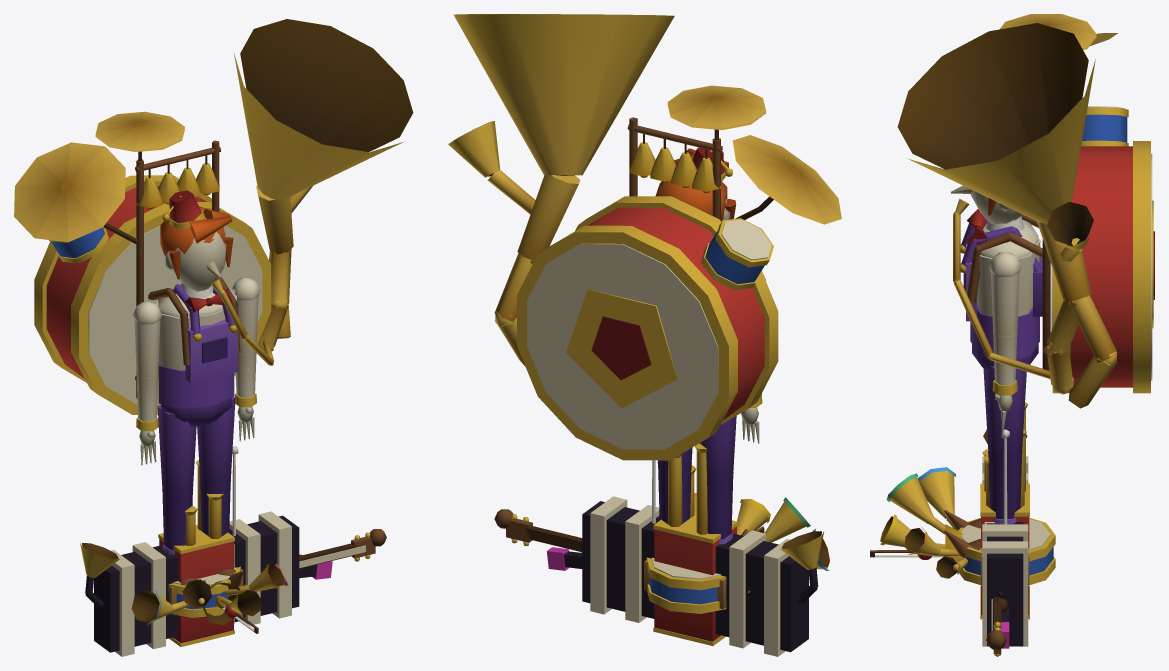
Rendered from bandsman.glb.
3 views of the same model, side by side, from view 1: azimuth 30°, elevation 25°; view 2: azimuth 150°, elevation 25°; view 3: azimuth 270°, elevation 25° (orthographic). The views are drawn at different scales.
Parts seen in each view (by area): view 1: tuba, pack_drum, acc_bellows, cym_crash, torso, pack, head, thigh_R, cym_top, acc_R, acc_L, thigh_L (+18 smaller); view 2: pack_drum, tuba, acc_bellows, cym_crash, pack_tom, acc_R, acc_L, cym_top, snare, pack_bells, pack, head (+9 smaller); view 3: tuba, pack_drum, torso, acc_bellows, snare, thigh_L, pack, upper_L, tuba_pipe, shin_L, pack_tom, horn_0 (+11 smaller).
Boxes of the visible parts, x1,y1,x2,y2 form: tuba: [234, 19, 413, 351]; pack_drum: [34, 175, 271, 414]; acc_bellows: [94, 511, 299, 656]; cym_crash: [14, 142, 125, 242]; torso: [156, 282, 237, 408]; pack: [95, 129, 240, 398]; head: [160, 190, 233, 279]; thigh_R: [157, 404, 196, 494]; cym_top: [95, 111, 184, 150]; acc_R: [158, 506, 208, 646]; acc_L: [195, 460, 235, 640]; thigh_L: [197, 396, 235, 485]; pack_drum: [517, 196, 778, 460]; tuba: [448, 14, 674, 366]; acc_bellows: [582, 496, 808, 656]; cym_crash: [732, 135, 841, 224]; pack_tom: [701, 218, 773, 290]; acc_R: [682, 443, 737, 645]; acc_L: [653, 453, 696, 638]; cym_top: [667, 85, 765, 127]; snare: [646, 557, 726, 613]; pack_bells: [629, 134, 720, 193]; pack: [627, 104, 773, 220]; head: [655, 147, 736, 221]; tuba: [897, 23, 1117, 408]; pack_drum: [1051, 141, 1154, 393]; torso: [960, 209, 1042, 358]; acc_bellows: [982, 456, 1028, 646]; snare: [958, 517, 1055, 585]; thigh_L: [983, 365, 1026, 457]; pack: [967, 35, 1096, 370]; upper_L: [989, 252, 1021, 336]; tuba_pipe: [953, 198, 1050, 378]; shin_L: [988, 451, 1022, 523]; pack_tom: [1081, 106, 1128, 146]; horn_0: [917, 467, 955, 529].
Size of the model in its own units: 1.9 by 2.84 by 1.18.
